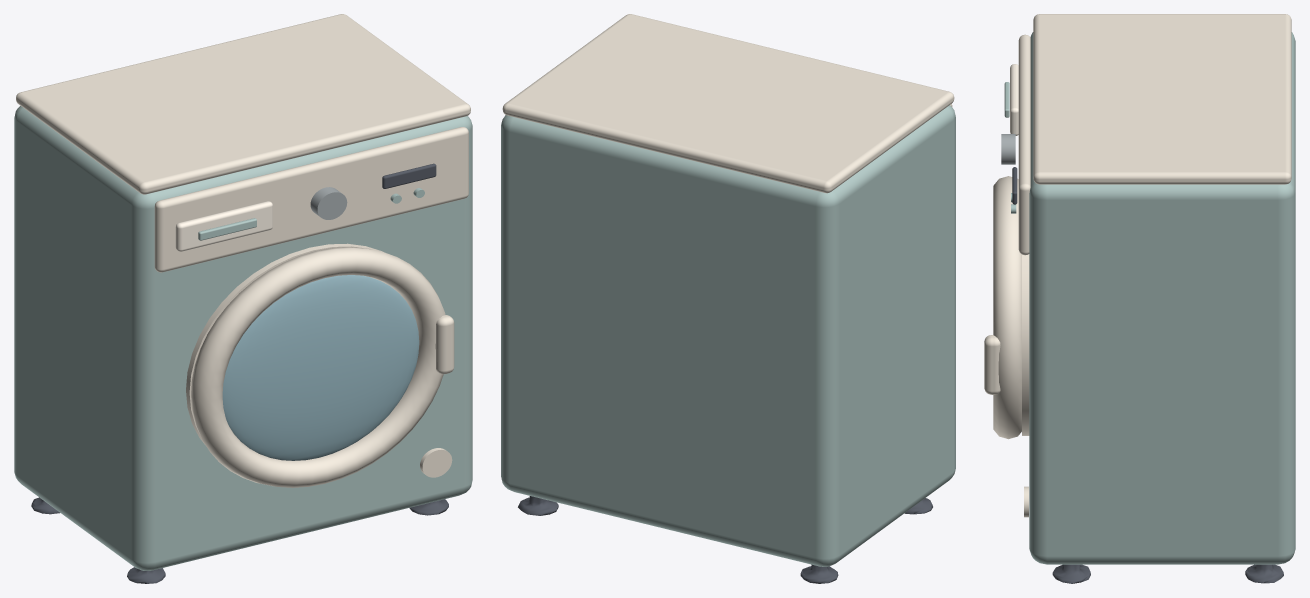
Rendered from bath_washer.glb.
3 views of the same model, side by side, from view 1: azimuth 30°, elevation 25°; view 2: azimuth 150°, elevation 25°; view 3: azimuth 270°, elevation 25° (orthographic).
Size of the model in its own units: 1.34 by 1.55 by 1.06.
